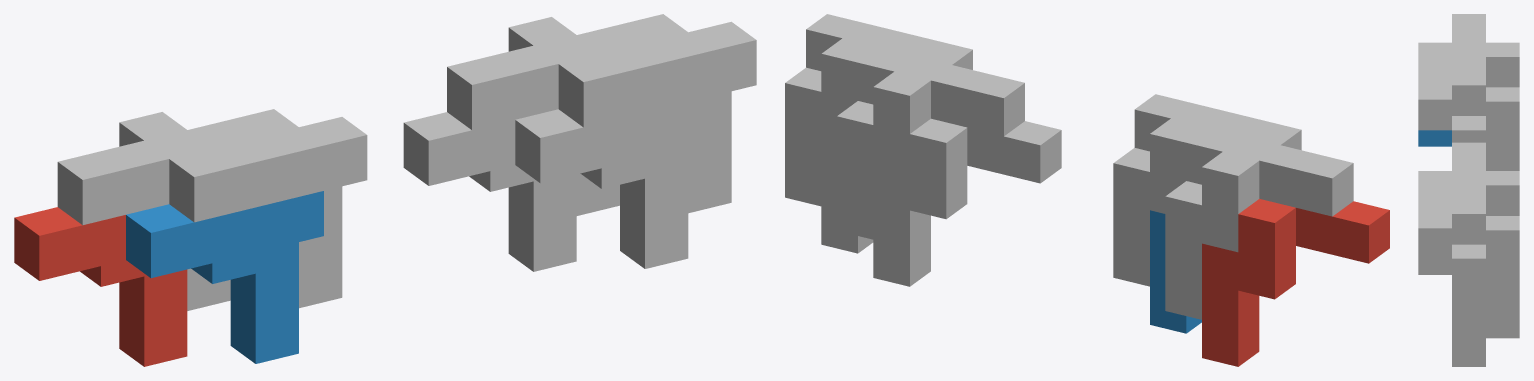
File: tiling.obj
3 views of the same model, side by side, from view 1: azimuth 30°, elevation 25°; view 2: azimuth 150°, elevation 25°; view 3: azimuth 270°, elevation 25° (orthographic). The views are drawn at different scales.
Visible parts, largest first — view 1: copy_1_domain_8, copy_1_domain_4, copy_1_domain_6, copy_1_domain_2, copy_1_domain_5, copy_1_domain_1, copy_1_domain_3, copy_1_domain_7; view 2: copy_1_domain_3, copy_1_domain_7, copy_1_domain_5, copy_1_domain_1, copy_1_domain_4, copy_1_domain_8, copy_1_domain_6, copy_1_domain_2; view 3: copy_1_domain_8, copy_1_domain_7, copy_1_domain_3, copy_1_domain_4, copy_1_domain_6, copy_1_domain_2, copy_1_domain_5.
Part boxes in pixels (left/top/right/bottom): copy_1_domain_8: left=558, top=14, right=756, bottom=213; copy_1_domain_4: left=169, top=109, right=367, bottom=308; copy_1_domain_6: left=515, top=96, right=713, bottom=268; copy_1_domain_2: left=126, top=191, right=323, bottom=363; copy_1_domain_5: left=403, top=112, right=576, bottom=271; copy_1_domain_1: left=14, top=207, right=187, bottom=366; copy_1_domain_3: left=57, top=112, right=255, bottom=310; copy_1_domain_7: left=447, top=17, right=644, bottom=215; copy_1_domain_3: left=1165, top=127, right=1353, bottom=319; copy_1_domain_7: left=837, top=47, right=1024, bottom=239; copy_1_domain_5: left=873, top=118, right=1061, bottom=286; copy_1_domain_1: left=1202, top=199, right=1389, bottom=366; copy_1_domain_4: left=1113, top=94, right=1301, bottom=286; copy_1_domain_8: left=785, top=14, right=972, bottom=206; copy_1_domain_6: left=821, top=130, right=873, bottom=253; copy_1_domain_2: left=1150, top=210, right=1201, bottom=333; copy_1_domain_8: left=1418, top=171, right=1485, bottom=350; copy_1_domain_7: left=1452, top=142, right=1519, bottom=321; copy_1_domain_3: left=1452, top=14, right=1519, bottom=170; copy_1_domain_4: left=1418, top=42, right=1485, bottom=142; copy_1_domain_6: left=1418, top=258, right=1485, bottom=366; copy_1_domain_2: left=1418, top=130, right=1451, bottom=146; copy_1_domain_5: left=1486, top=322, right=1519, bottom=338.
Size of the model in its own units: 16 by 5 by 3.
